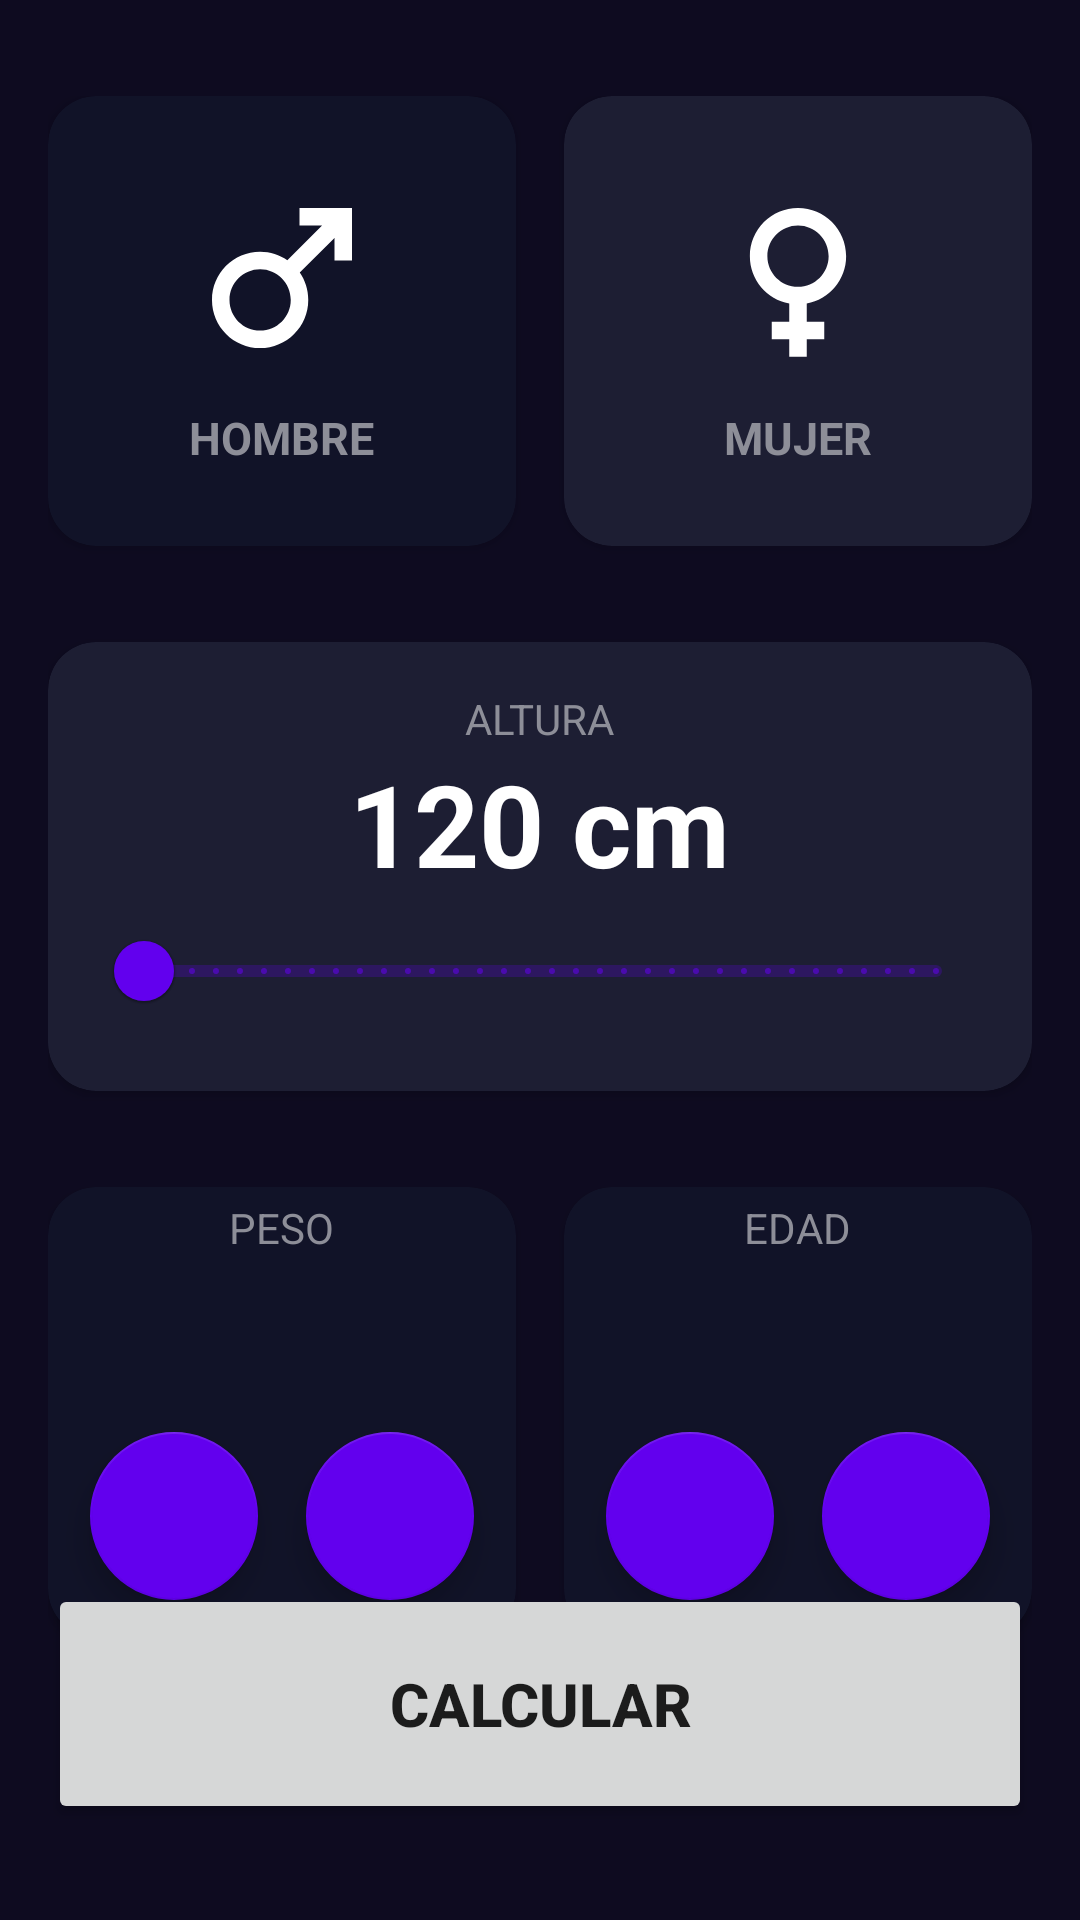

Point at icon controls on the screen. Image size 1080*1920, points as [x,y].
female: [797,282]
male: [282,278]
